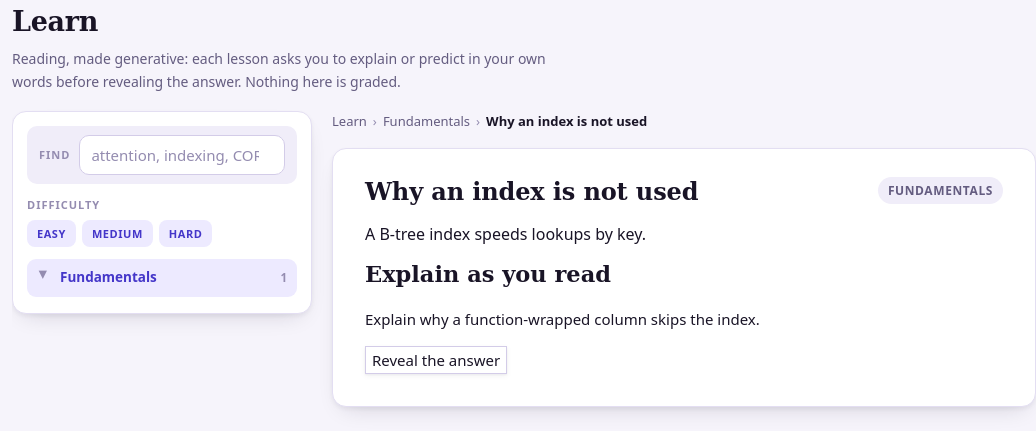
Test: Lesson renderer (issue #41/#46) › shows a lesson with an ungraded self-explanation prompt that reveals its answer
Expected: the heading "Why an index is not used" is shown, [365, 177, 698, 207]
Expected: the text "Explain why a function-wrapped column skips the index." is shown, [365, 309, 760, 329]
Click the button "Reveal the answer": (436, 360) [365, 346, 507, 374]
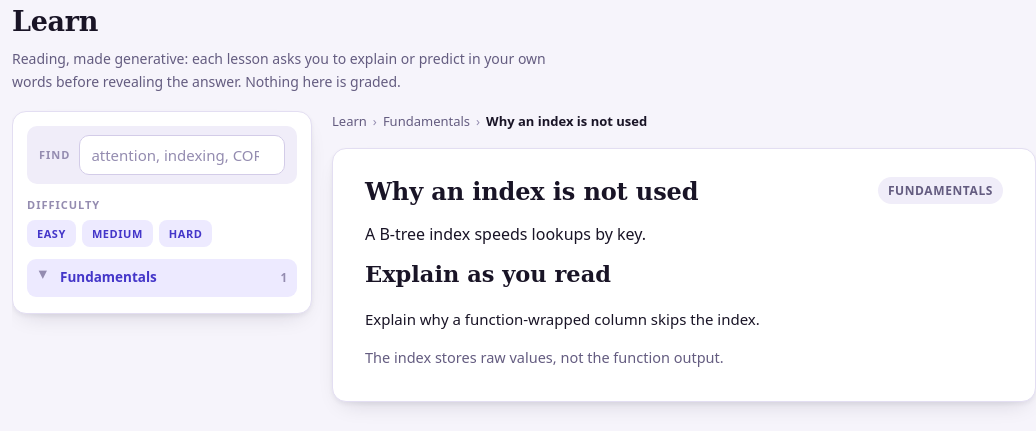
Expected: the text "The index stores raw values, not the function output." is shown, [365, 347, 724, 367]
